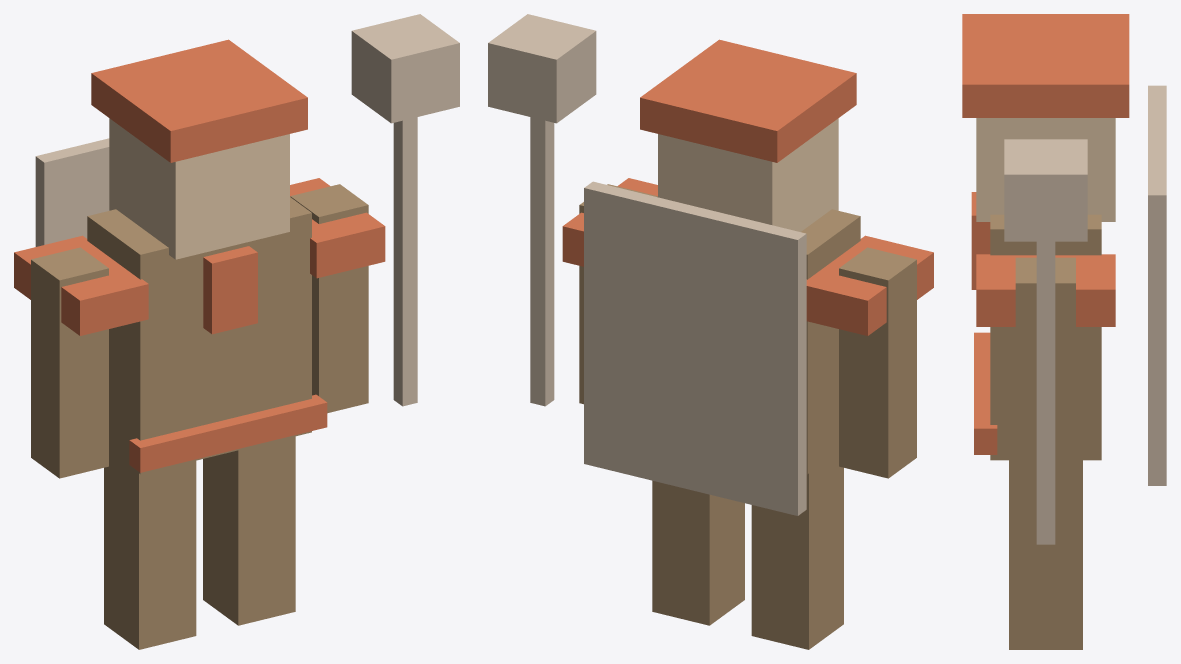
The model's file is 15_varren_latchward_engineer_at_glyph.glb.
3 views of the same model, side by side, from view 1: azimuth 30°, elevation 25°; view 2: azimuth 150°, elevation 25°; view 3: azimuth 270°, elevation 25° (orthographic). The views are drawn at different scales.
Visible parts, largest first — view 1: Varren Latchward, Engineer at Glyph; view 2: Varren Latchward, Engineer at Glyph; view 3: Varren Latchward, Engineer at Glyph.
Part boxes in pixels (bbox=[...]): Varren Latchward, Engineer at Glyph: bbox=[14, 14, 459, 649]; Varren Latchward, Engineer at Glyph: bbox=[488, 14, 933, 649]; Varren Latchward, Engineer at Glyph: bbox=[962, 14, 1166, 649].
Size of the model in its own units: 1.09 by 1.4 by 0.4623.
